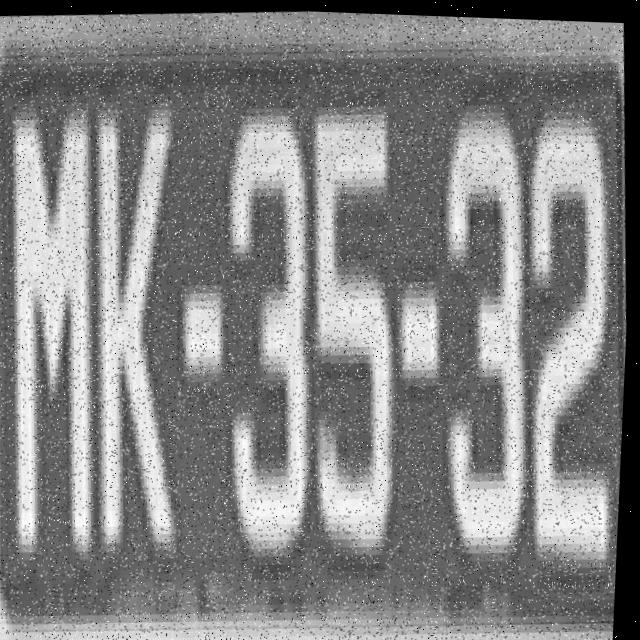LicensePlate: (0, 26, 639, 640)
